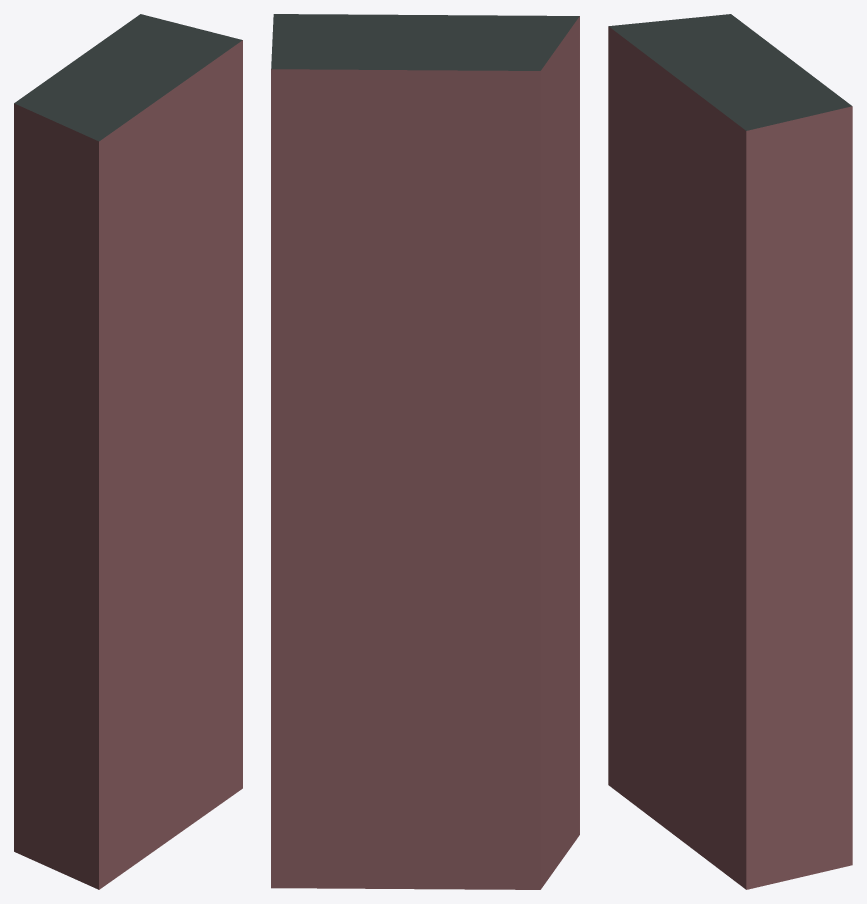
Rendered from nyc-1022568-0.glb.
3 views of the same model, side by side, from view 1: azimuth 30°, elevation 25°; view 2: azimuth 150°, elevation 25°; view 3: azimuth 270°, elevation 25° (orthographic). The views are drawn at different scales.
Visible parts, largest first — view 1: nyc-1022568-0; view 2: nyc-1022568-0; view 3: nyc-1022568-0.
Part boxes in pixels (x1,y1,x2,y2): nyc-1022568-0: (14, 14, 242, 889); nyc-1022568-0: (271, 14, 579, 889); nyc-1022568-0: (608, 14, 852, 889).
Size of the model in its own units: 51.48 by 156 by 45.39.
